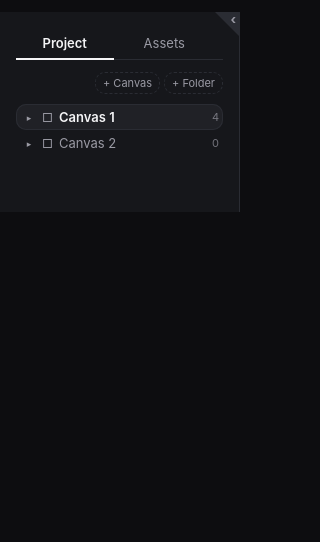
Test case: the board's shelf, one kind at a time › puts a waiting file on this board from the tray
The width and height of the screenshot is (320, 542).
Click the tab with test id "left-tab-assets" at [164, 44], box x1=116 y1=28 x2=213 y2=60
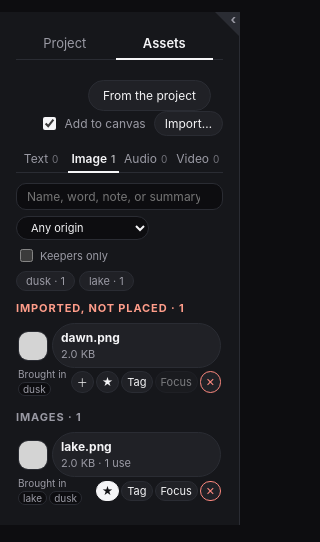
Now the element with test id "shelf-tray" shows "dawn.png", box x1=52 y1=323 x2=221 y2=368
Click the button with test id "shelf-add-to-canvas" at [82, 382], box x1=71 y1=371 x2=94 y2=393
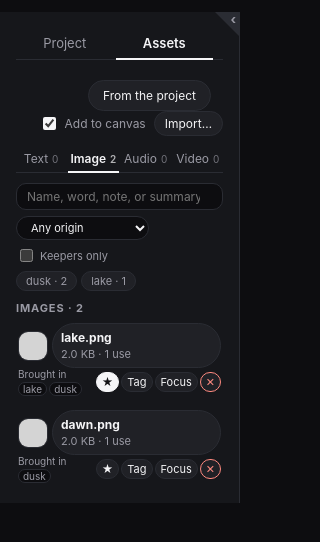
Now the element with test id "shelf-tray" is gone
